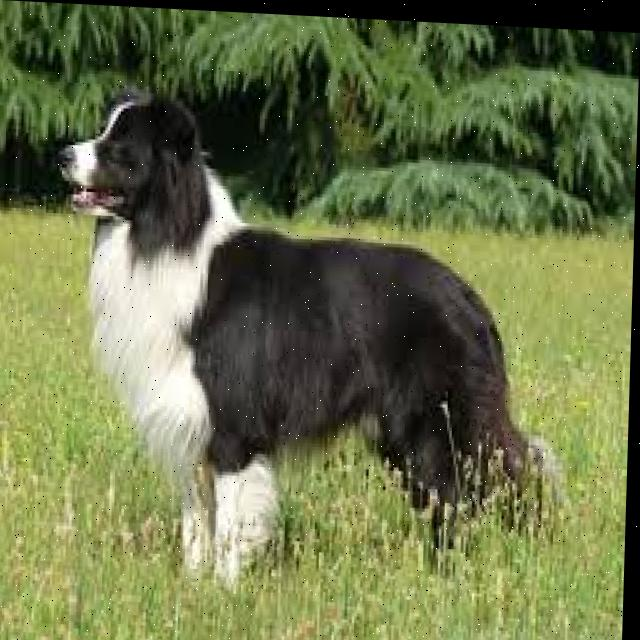BORDER_COLLIE: (42, 58, 579, 623)
